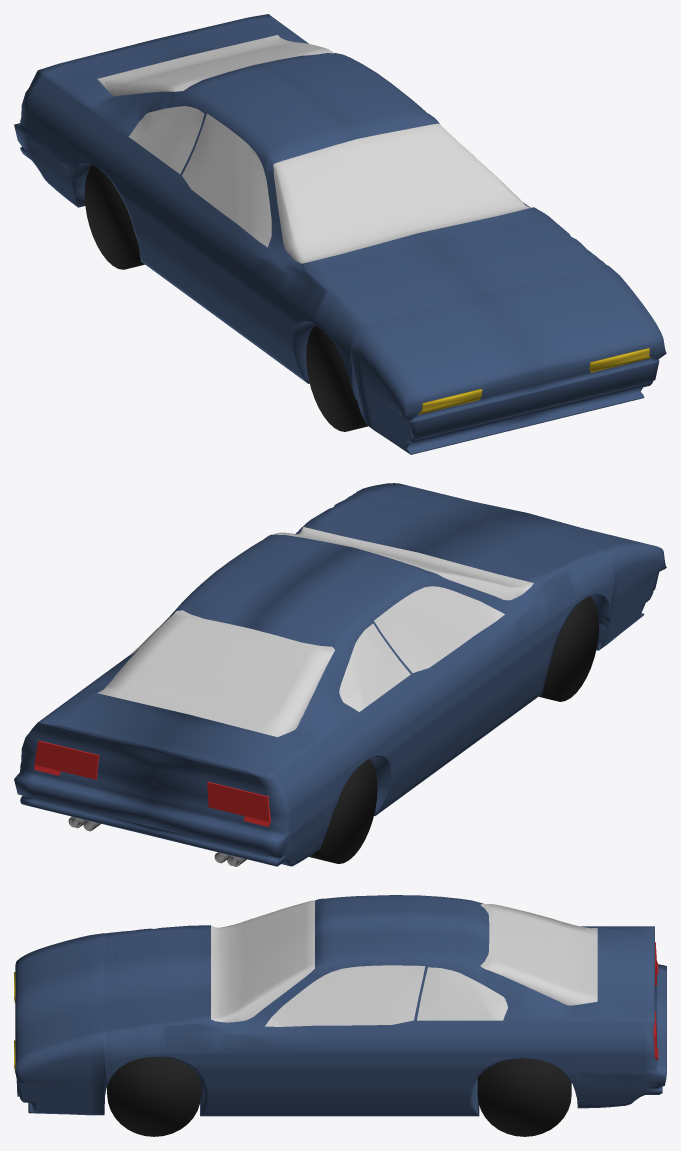
Rendered from coche.fbx.
3 views of the same model, one above another, from view 1: azimuth 30°, elevation 25°; view 2: azimuth 150°, elevation 25°; view 3: azimuth 270°, elevation 25° (orthographic). The views are drawn at different scales.
Visible parts, largest first — view 1: Cube; view 2: Cube; view 3: Cube.
Part boxes in pixels (x1=…): Cube: x1=14, y1=14, x2=666, y2=454; Cube: x1=14, y1=483, x2=666, y2=866; Cube: x1=14, y1=895, x2=666, y2=1136.
Bounding box in the file's own units: 384 × 278 × 982.
